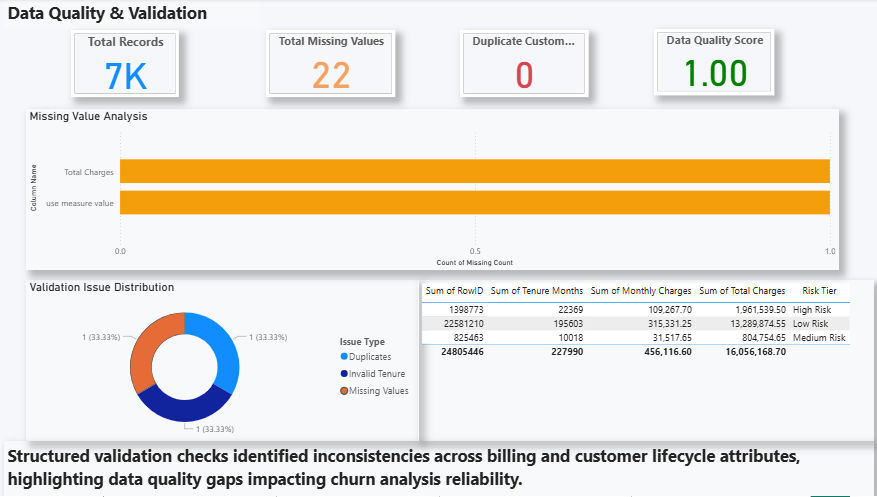

Layout of this report page (visuals, bound fields, positions):
{"tool":"powerbi","page":{"name":"Data Quality & Validation","canvas":[1280,720],"ordinal":3},"visuals":[{"type":"textbox","box":[9.4,0,370.9,45.4],"z":0},{"type":"cardVisual","fields":{"Data":["churn_predictions.Total Records"]},"box":[106.2,45.7,156.3,97.3],"z":1000},{"type":"clusteredBarChart","title":"Missing Value Analysis","fields":{"Category":["MissingValueTable.Column1"],"Y":["CountNonNull(MissingValueTable.Missing Count)"]},"box":[39.8,160.7,1175.3,233],"z":2000},{"type":"cardVisual","fields":{"Data":["churn_predictions.Total Missing Values"]},"box":[387.8,45.7,187.3,97.3],"z":3000},{"type":"donutChart","title":"Validation Issue Distribution","fields":{"Category":["ValidationIssues.Issue Type"],"Y":["CountNonNull(ValidationIssues.Count)"]},"box":[39.8,407,567.7,233],"z":4000},{"type":"cardVisual","fields":{"Data":["churn_predictions.Duplicate Customers"]},"box":[668,45.7,185.8,97.3],"z":5000},{"type":"tableEx","fields":{"Values":["Sum(churn_predictions.RowID)","Sum(churn_predictions.Tenure Months)","Sum(churn_predictions.Monthly Charges)","Sum(churn_predictions.Total Charges)","churn_predictions.Risk Tier"]},"box":[607.6,407,659.2,233],"z":6000},{"type":"cardVisual","fields":{"Data":["churn_predictions.Data Quality Score"]},"box":[948.2,45.5,174,95.9],"z":7000},{"type":"textbox","box":[8.8,640,1257.9,79.6],"z":8000}]}

Visuals, with their boxes in screenshot pixels (x1, y1, x2, y2), scaled from the page's 1280x720 canvas onto the 877x497 screenshot:
textbox: [6,0,261,31]
cardVisual - churn_predictions.Total Records: [73,32,180,99]
"Missing Value Analysis" clusteredBarChart: [27,111,833,272]
cardVisual - churn_predictions.Total Missing Values: [266,32,394,99]
"Validation Issue Distribution" donutChart: [27,281,416,442]
cardVisual - churn_predictions.Duplicate Customers: [458,32,585,99]
tableEx - Sum(churn_predictions.RowID) x Sum(churn_predictions.Tenure Months): [416,281,868,442]
cardVisual - churn_predictions.Data Quality Score: [650,31,769,98]
textbox: [6,442,868,496]
